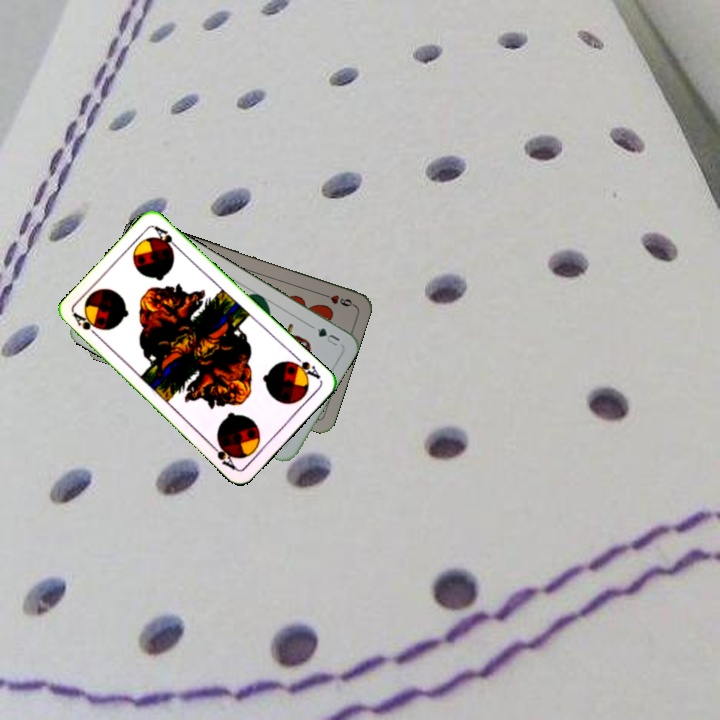GU: (313, 324, 343, 348)
H9: (317, 289, 356, 309)
SA: (285, 351, 323, 382), (69, 309, 103, 341)
